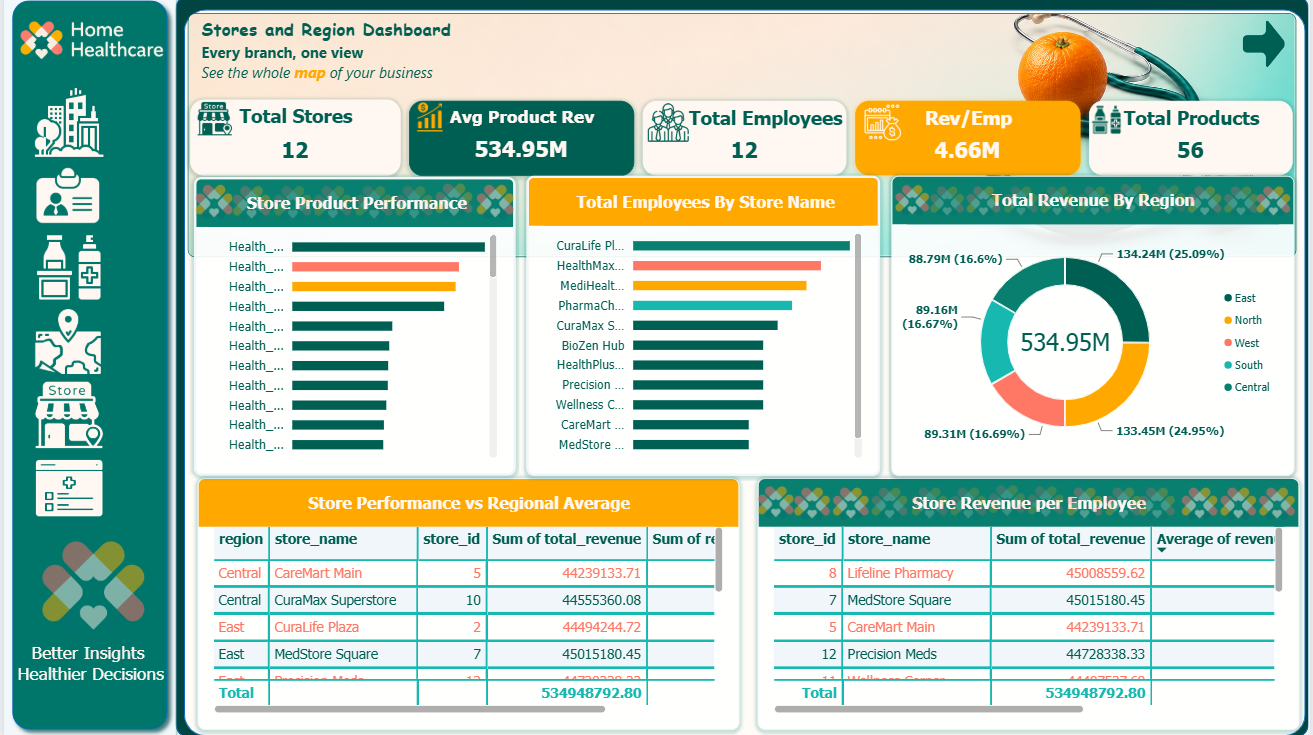

Layout of this report page (visuals, bound fields, positions):
{"tool":"powerbi","page":{"name":"Stores & Region Dashboard","canvas":[1400,800],"ordinal":5},"visuals":[{"type":"shape","box":[184.2,2.4,1215.8,797.6],"z":0},{"type":"cardVisual","title":"Total Stores","fields":{"Data":["Count(healthcare_db_enhanced vw_stores_dashboard.store_id)"]},"box":[200,114.8,225.2,81.8],"z":0,"group":"g6"},{"type":"group","id":"g1","title":"Group 2","box":[807.4,524,451,45.5],"z":0,"group":"g5"},{"type":"shape","box":[193.5,18.9,1202.7,779.3],"z":1000},{"type":"cardVisual","title":"Rev/Emp","fields":{"Data":["Avg(healthcare_db_enhanced vw_stores_dashboard.Rev/Emp)"]},"box":[913.3,115.5,241.3,80],"z":1000,"group":"g6"},{"type":"image","box":[1345.6,526.6,41.7,43.2],"z":1000,"group":"g5"},{"type":"cardVisual","title":"Total Employees","fields":{"Data":["CountNonNull(healthcare_db_enhanced vw_stores_dashboard.total_employees)"]},"box":[685.4,115.5,218.5,80],"z":2000,"group":"g6"},{"type":"barChart","title":"Total Employees By Store Name","fields":{"Category":["healthcare_db_enhanced vw_stores_dashboard.store_name"],"Y":["Sum(healthcare_db_enhanced vw_stores_dashboard.total_employees)"]},"box":[560.9,197.6,379.4,321.7],"z":2000,"group":"g9"},{"type":"listSlicer","fields":{"Values":["healthcare_db_enhanced vw_employee_performance.employee_rank"]},"box":[16.1,256,158.2,107.2],"z":2000},{"type":"image","box":[1303.7,526.6,41.7,43.2],"z":2000,"group":"g5"},{"type":"cardVisual","title":"Avg Product Rev","fields":{"Data":["Sum(healthcare_db_enhanced vw_stores_dashboard.total_revenue)"]},"box":[434.7,115.5,241.3,80.4],"z":3000,"group":"g6"},{"type":"donutChart","title":"Total Revenue By Region","fields":{"Category":["healthcare_db_enhanced vw_stores_dashboard.region"],"Y":["Sum(healthcare_db_enhanced vw_stores_dashboard.total_revenue)"]},"box":[952.3,197.6,431.6,321.7],"z":3000,"group":"g8"},{"type":"tableEx","title":"Store Performance vs Regional Average","fields":{"Values":["healthcare_db_enhanced vw_stores_dashboard.region","healthcare_db_enhanced vw_stores_dashboard.store_name","healthcare_db_enhanced vw_stores_dashboard.store_id","Sum(healthcare_db_enhanced vw_stores_dashboard.total_revenue)","Sum(healthcare_db_enhanced vw_stores_dashboard.region_avg_revenue)"]},"box":[207.2,521.9,580.4,269.4],"z":3000,"group":"g2"},{"type":"group","id":"g2","title":"Group 2","box":[207.2,521.9,1181,269.4],"z":3000},{"type":"image","box":[1261.8,526.6,41.7,43.2],"z":3000,"group":"g5"},{"type":"shape","box":[0,0,184.3,800],"z":4000},{"type":"cardVisual","title":"Total Products","fields":{"Data":["Count(healthcare_db_enhanced vw_store_top_products.product_id)"]},"box":[1163.9,115.5,218.5,80],"z":4000,"group":"g6"},{"type":"clusteredBarChart","title":"Store Product Performance","fields":{"Category":["healthcare_db_enhanced vw_store_top_products.product_name"],"Y":["Sum(healthcare_db_enhanced vw_store_top_products.product_revenue)"]},"box":[204.3,198.9,344.5,320.4],"z":4000,"group":"g10"},{"type":"image","box":[197.1,22.9,1188.6,261.4],"z":5000},{"type":"tableEx","title":"Store Revenue per Employee","fields":{"Values":["healthcare_db_enhanced vw_stores_dashboard.store_id","healthcare_db_enhanced vw_stores_dashboard.store_name","Sum(healthcare_db_enhanced vw_stores_dashboard.total_revenue)","Avg(healthcare_db_enhanced vw_stores_dashboard.revenue_per_employee)","Sum(healthcare_db_enhanced vw_stores_dashboard.total_employees)"]},"box":[807.7,521.9,580.4,269.4],"z":5000,"group":"g2"},{"type":"image","box":[5.7,0,174.3,102.9],"z":6000},{"type":"group","id":"g3","title":"Group 5","box":[1.1,577.8,183.6,194.4],"z":7000},{"type":"group","id":"g4","title":"Group 2","box":[204.3,200.2,344.5,49.6],"z":8000,"group":"g10"},{"type":"group","id":"g5","title":"Group 3","box":[807.4,524,579.9,45.8],"z":8000},{"type":"group","id":"g6","title":"Group 1","box":[200,114.8,1182.4,81.8],"z":9000},{"type":"group","id":"g7","title":"Group 2","box":[954.4,200.2,427.5,46],"z":9000,"group":"g8"},{"type":"image","box":[954.4,201.3,39.5,43.7],"z":9000,"group":"g7"},{"type":"image","box":[204.3,201.4,43.4,47.1],"z":9000,"group":"g4"},{"type":"image","box":[807.4,525.1,41.7,43.2],"z":9000,"group":"g1"},{"type":"image","box":[1162.9,120,40,32.9],"z":10000},{"type":"group","id":"g8","title":"Group 6","box":[952.3,197.6,431.6,321.7],"z":10000,"group":"g9"},{"type":"image","box":[991.6,202.5,39.5,43.7],"z":10000,"group":"g7"},{"type":"image","box":[245.1,202.7,43.4,47.1],"z":10000,"group":"g4"},{"type":"image","box":[846.6,526.3,41.7,43.2],"z":10000,"group":"g1"},{"type":"group","id":"g9","title":"Group 8","box":[204.3,197.6,1179.6,321.7],"z":11000},{"type":"group","id":"g10","title":"Group 7","box":[204.3,198.9,344.5,320.4],"z":11000,"group":"g9"},{"type":"image","box":[1031.1,202.5,39.5,43.7],"z":11000,"group":"g7"},{"type":"image","box":[288.5,202.7,43.4,47.1],"z":11000,"group":"g4"},{"type":"image","box":[888.3,526.3,41.7,43.2],"z":11000,"group":"g1"},{"type":"image","box":[28.2,577.8,135.7,120],"z":11000,"group":"g3"},{"type":"image","box":[434.3,118,44.2,32.2],"z":12000},{"type":"image","box":[1070.6,202.5,39.5,43.7],"z":12000,"group":"g7"},{"type":"image","box":[331.9,202.7,43.4,47.1],"z":12000,"group":"g4"},{"type":"image","box":[929.9,526.3,41.7,43.2],"z":12000,"group":"g1"},{"type":"image","box":[690,118.6,44.3,44.3],"z":13000},{"type":"image","box":[1110.1,202.5,39.5,43.7],"z":13000,"group":"g7"},{"type":"image","box":[375.3,202.7,43.4,47.1],"z":13000,"group":"g4"},{"type":"image","box":[971.6,526.3,41.7,43.2],"z":13000,"group":"g1"},{"type":"image","box":[920,120,45.7,38.6],"z":14000},{"type":"image","box":[1149.6,202.5,39.5,43.7],"z":14000,"group":"g7"},{"type":"image","box":[418.7,202.7,43.4,47.1],"z":14000,"group":"g4"},{"type":"image","box":[1013.3,526.3,41.7,43.2],"z":14000,"group":"g1"},{"type":"textbox","box":[1.1,697.1,183.6,75.1],"z":14001,"group":"g11"},{"type":"image","box":[202.9,117.1,47.1,38.6],"z":15000},{"type":"image","box":[462,200.2,43.4,47.1],"z":15000,"group":"g4"},{"type":"image","box":[1189.1,200.2,39.5,43.7],"z":15000,"group":"g7"},{"type":"image","box":[1054.9,524,41.7,43.2],"z":15000,"group":"g1"},{"type":"group","id":"g11","title":"Group 4","box":[1.1,697.1,183.6,75.1],"z":15000,"group":"g3"},{"type":"image","box":[1228.6,201.3,39.5,43.7],"z":16000,"group":"g7"},{"type":"image","box":[505.4,201.4,43.4,47.1],"z":16000,"group":"g4"},{"type":"image","box":[1096.6,525.1,41.7,43.2],"z":16000,"group":"g1"},{"type":"image","box":[1268.1,202.5,39.5,43.7],"z":17000,"group":"g7"},{"type":"image","title":"Image category name","box":[21.5,493.9,96.5,76.4],"z":17000},{"type":"image","box":[1138.3,526.3,41.7,43.2],"z":17000,"group":"g1"},{"type":"image","box":[1307.6,202.5,39.5,43.7],"z":18000,"group":"g7"},{"type":"image","box":[1179.9,526.3,41.7,43.2],"z":18000,"group":"g1"},{"type":"image","title":"Image manager name","box":[20.8,180.6,97.1,74.3],"z":19000},{"type":"image","box":[1342.4,202.5,39.5,43.7],"z":19000,"group":"g7"},{"type":"image","box":[1216.7,526.3,41.7,43.2],"z":19000,"group":"g1"},{"type":"image","title":"Image region","box":[20.4,335.8,97.1,77.1],"z":23000},{"type":"image","title":"Image store name","box":[20.9,415.6,97.1,75.7],"z":25000},{"type":"image","title":"Image p.name","box":[21.3,257.5,95.7,75.7],"z":27000},{"type":"image","title":"Image city 2","box":[20.9,101.4,97.1,75.7],"z":28000},{"type":"image","title":"Image store name 2","box":[20.9,415.7,97.1,75.7],"z":32000},{"type":"image","title":"Image category name 2","box":[20.9,494.3,97.1,75.7],"z":33000},{"type":"textbox","box":[211.4,27.1,780,88.6],"z":34000},{"type":"shape","box":[1328.4,28.2,46.9,55],"z":35000}]}

Visuals, with their boxes on the page's 1400x800 design canvas (x1, y1, x2, y2). These are canvas units, not pixel positions in the 1313x735 screenshot, which may show the page scaled, cropped or inside an application window:
shape: <region>184, 2, 1400, 800</region>
"Total Stores" cardVisual: <region>200, 115, 425, 197</region>
"Group 2" group: <region>807, 524, 1258, 570</region>
shape: <region>194, 19, 1396, 798</region>
"Rev/Emp" cardVisual: <region>913, 116, 1155, 196</region>
image: <region>1346, 527, 1387, 570</region>
"Total Employees" cardVisual: <region>685, 116, 904, 196</region>
"Total Employees By Store Name" barChart: <region>561, 198, 940, 519</region>
listSlicer - healthcare_db_enhanced vw_employee_performance.employee_rank: <region>16, 256, 174, 363</region>
image: <region>1304, 527, 1345, 570</region>
"Avg Product Rev" cardVisual: <region>435, 116, 676, 196</region>
"Total Revenue By Region" donutChart: <region>952, 198, 1384, 519</region>
"Store Performance vs Regional Average" tableEx: <region>207, 522, 788, 791</region>
"Group 2" group: <region>207, 522, 1388, 791</region>
image: <region>1262, 527, 1304, 570</region>
shape: <region>0, 0, 184, 800</region>
"Total Products" cardVisual: <region>1164, 116, 1382, 196</region>
"Store Product Performance" clusteredBarChart: <region>204, 199, 549, 519</region>
image: <region>197, 23, 1386, 284</region>
"Store Revenue per Employee" tableEx: <region>808, 522, 1388, 791</region>
image: <region>6, 0, 180, 103</region>
"Group 5" group: <region>1, 578, 185, 772</region>
"Group 2" group: <region>204, 200, 549, 250</region>
"Group 3" group: <region>807, 524, 1387, 570</region>
"Group 1" group: <region>200, 115, 1382, 197</region>
"Group 2" group: <region>954, 200, 1382, 246</region>
image: <region>954, 201, 994, 245</region>
image: <region>204, 201, 248, 248</region>
image: <region>807, 525, 849, 568</region>
image: <region>1163, 120, 1203, 153</region>
"Group 6" group: <region>952, 198, 1384, 519</region>
image: <region>992, 202, 1031, 246</region>
image: <region>245, 203, 288, 250</region>
image: <region>847, 526, 888, 570</region>
"Group 8" group: <region>204, 198, 1384, 519</region>
"Group 7" group: <region>204, 199, 549, 519</region>
image: <region>1031, 202, 1071, 246</region>
image: <region>288, 203, 332, 250</region>
image: <region>888, 526, 930, 570</region>
image: <region>28, 578, 164, 698</region>
image: <region>434, 118, 478, 150</region>
image: <region>1071, 202, 1110, 246</region>
image: <region>332, 203, 375, 250</region>
image: <region>930, 526, 972, 570</region>
image: <region>690, 119, 734, 163</region>
image: <region>1110, 202, 1150, 246</region>
image: <region>375, 203, 419, 250</region>
image: <region>972, 526, 1013, 570</region>
image: <region>920, 120, 966, 159</region>
image: <region>1150, 202, 1189, 246</region>
image: <region>419, 203, 462, 250</region>
image: <region>1013, 526, 1055, 570</region>
textbox: <region>1, 697, 185, 772</region>
image: <region>203, 117, 250, 156</region>
image: <region>462, 200, 505, 247</region>
image: <region>1189, 200, 1229, 244</region>
image: <region>1055, 524, 1097, 567</region>
"Group 4" group: <region>1, 697, 185, 772</region>
image: <region>1229, 201, 1268, 245</region>
image: <region>505, 201, 549, 248</region>
image: <region>1097, 525, 1138, 568</region>
image: <region>1268, 202, 1308, 246</region>
"Image category name" image: <region>22, 494, 118, 570</region>
image: <region>1138, 526, 1180, 570</region>
image: <region>1308, 202, 1347, 246</region>
image: <region>1180, 526, 1222, 570</region>
"Image manager name" image: <region>21, 181, 118, 255</region>
image: <region>1342, 202, 1382, 246</region>
image: <region>1217, 526, 1258, 570</region>
"Image region" image: <region>20, 336, 118, 413</region>
"Image store name" image: <region>21, 416, 118, 491</region>
"Image p.name" image: <region>21, 258, 117, 333</region>
"Image city 2" image: <region>21, 101, 118, 177</region>
"Image store name 2" image: <region>21, 416, 118, 491</region>
"Image category name 2" image: <region>21, 494, 118, 570</region>
textbox: <region>211, 27, 991, 116</region>
shape: <region>1328, 28, 1375, 83</region>
